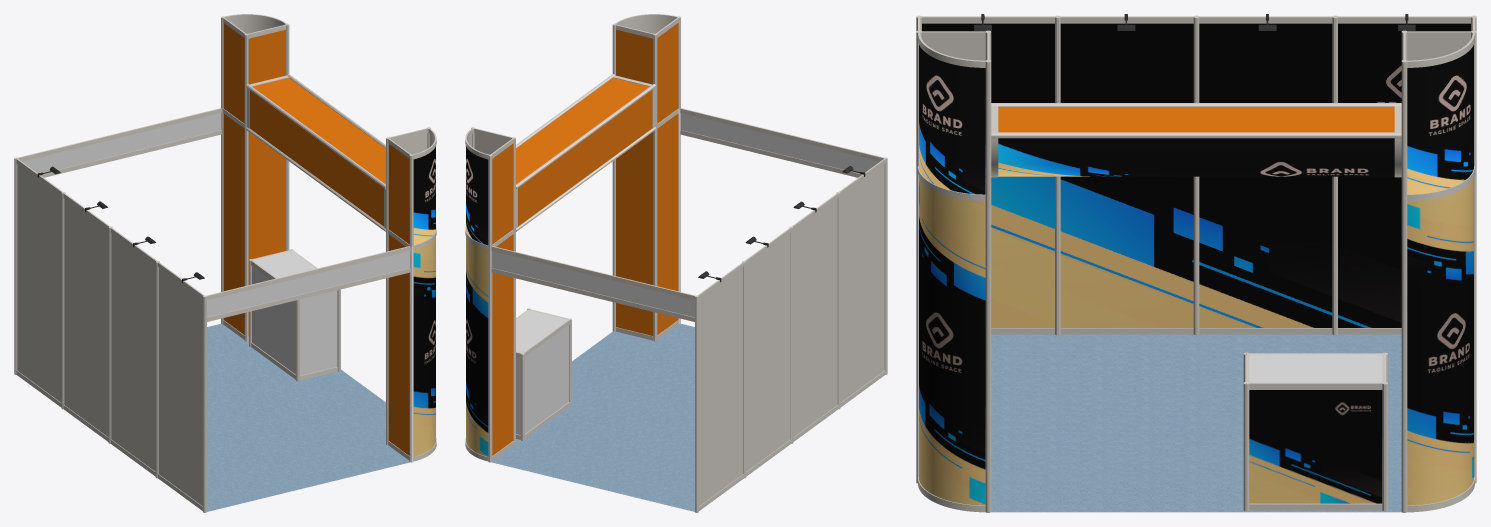
3 views of the same model, side by side, from view 1: azimuth 30°, elevation 25°; view 2: azimuth 150°, elevation 25°; view 3: azimuth 270°, elevation 25° (orthographic). The views are drawn at different scales.
Parts seen in each view (by area): view 1: Polygon, Polygon_34, Polygon_16, octanorm_counter, Polygon_23, Polygon_11, Polygon_15, Polygon_10, Polygon_14, Polygon_21, Polygon_3, Polygon_24 (+13 smaller); view 2: Polygon, Polygon_34, Polygon_16, Polygon_29, octanorm_counter, Polygon_11, Polygon_23, Polygon_8, Polygon_21, Polygon_14, Polygon_24, Polygon_3 (+14 smaller); view 3: Polygon_2, Polygon_34, octanorm_counter, Polygon_15, Polygon_8, Polygon_17, Polygon_16, Polygon_25, Polygon_4, Polygon, Polygon_20, Polygon_9 (+11 smaller).
Boxes of the visible parts, x1,y1,x2,y2 form: Polygon: (16,159,204,510); Polygon_34: (207,324,409,511); Polygon_16: (247,75,385,228); octanorm_counter: (249,249,340,381); Polygon_23: (206,246,410,321); Polygon_11: (18,108,221,177); Polygon_15: (413,226,436,461); Polygon_10: (248,132,285,340); Polygon_14: (223,108,244,339); Polygon_21: (388,229,409,460); Polygon_3: (223,18,285,123); Polygon_24: (388,128,427,244); Polygon: (697,159,885,510); Polygon_34: (478,324,694,511); Polygon_16: (516,75,654,228); Polygon_29: (616,132,653,340); octanorm_counter: (516,308,571,440); Polygon_11: (491,246,695,321); Polygon_23: (680,108,883,177); Polygon_8: (465,226,488,461); Polygon_21: (657,108,678,339); Polygon_14: (492,229,513,460); Polygon_24: (616,18,678,123); Polygon_3: (474,128,513,244); Polygon_2: (922,23,1470,327); Polygon_34: (991,334,1450,512); octanorm_counter: (1243,352,1387,511); Polygon_15: (918,166,985,512); Polygon_8: (1407,166,1474,512); Polygon_17: (991,138,1401,177); Polygon_16: (991,106,1401,132); Polygon_25: (918,33,985,194); Polygon_4: (1407,33,1474,194); Polygon: (922,16,1470,334); Polygon_20: (991,132,1401,138); Polygon_9: (1401,195,1407,512).
Size of the model in its own units: 3.04 by 3.55 by 4.
Materials: 12 (6 with a texture image).
